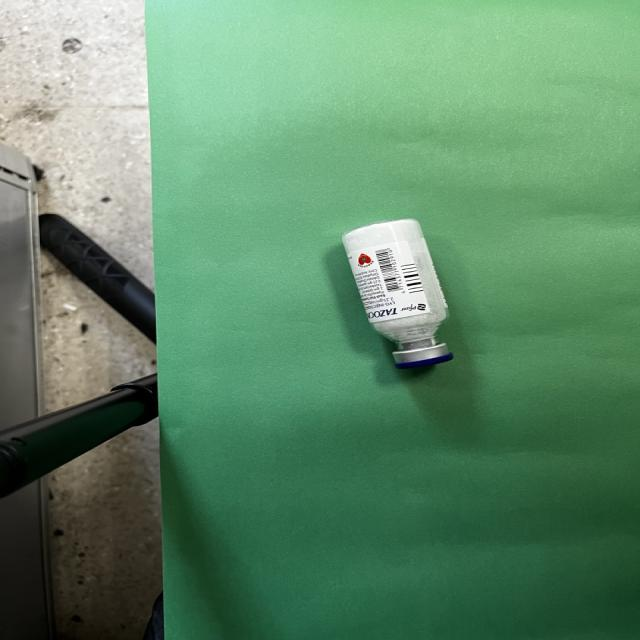Vials: (342, 219, 453, 370)
